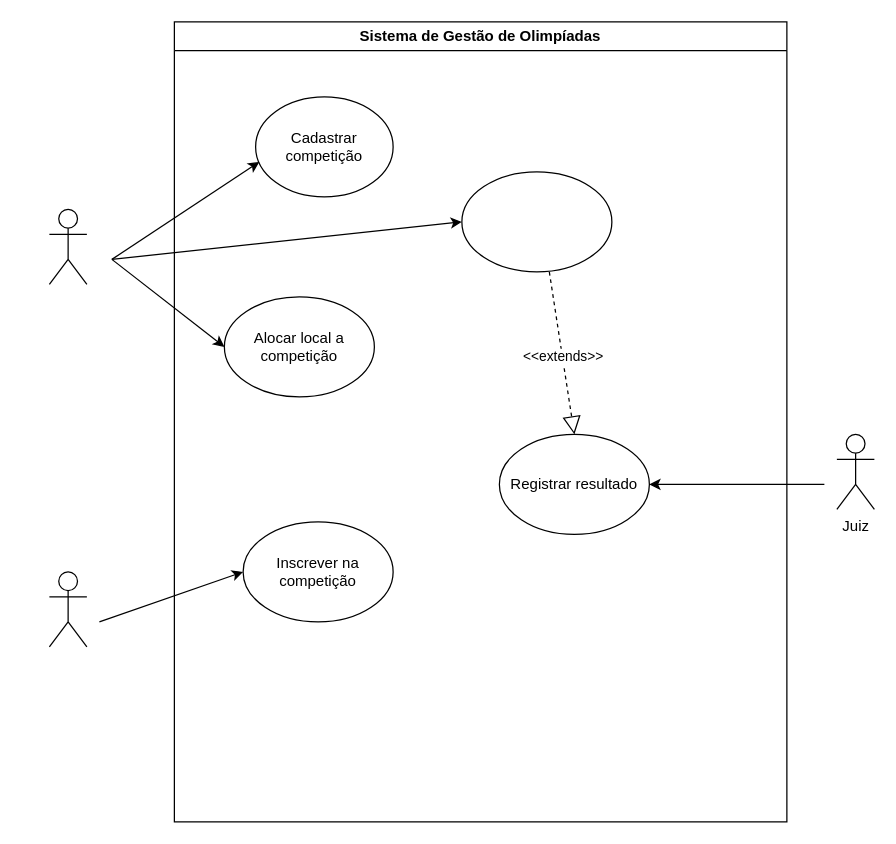
Image size: 896x844. Some labels were removed from this diagram. Here are the shapes that lost their labels. From the top down, the centre of each, then its label:
point 536,221: Gerar relatórios de desempenho
point 67,246: Administrador
point 67,609: Atleta
